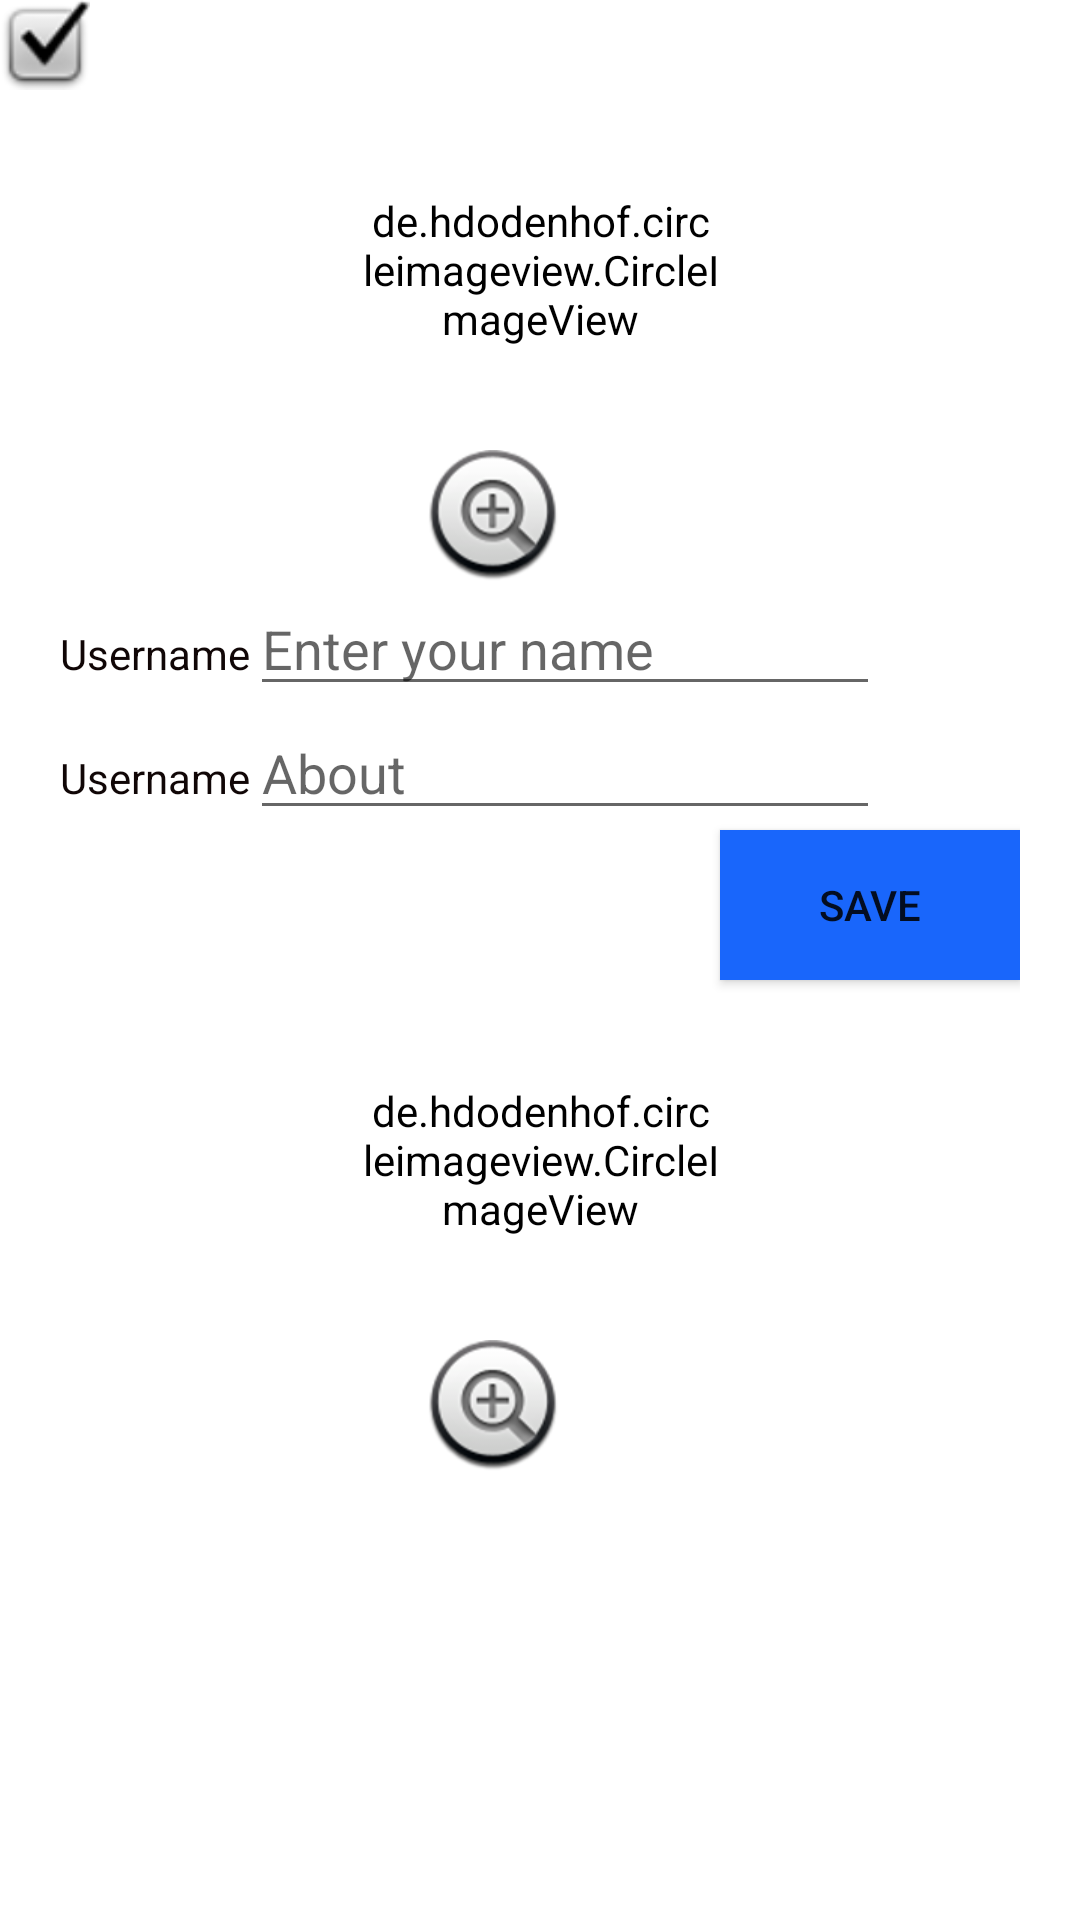

Icon bounding boxes for this 1080 x 1920 phone screenshot, format {"left": x1, "top": y1, "right": x2, "bottom": y2}:
plus: {"left": 429, "top": 450, "right": 556, "bottom": 579}, {"left": 429, "top": 1340, "right": 556, "bottom": 1469}
